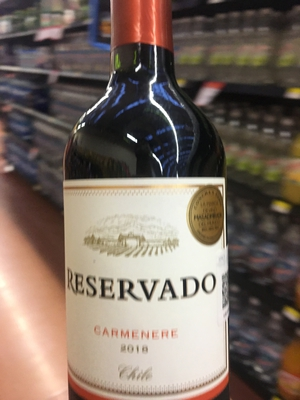reservado carmenere: (61, 5, 230, 400)
